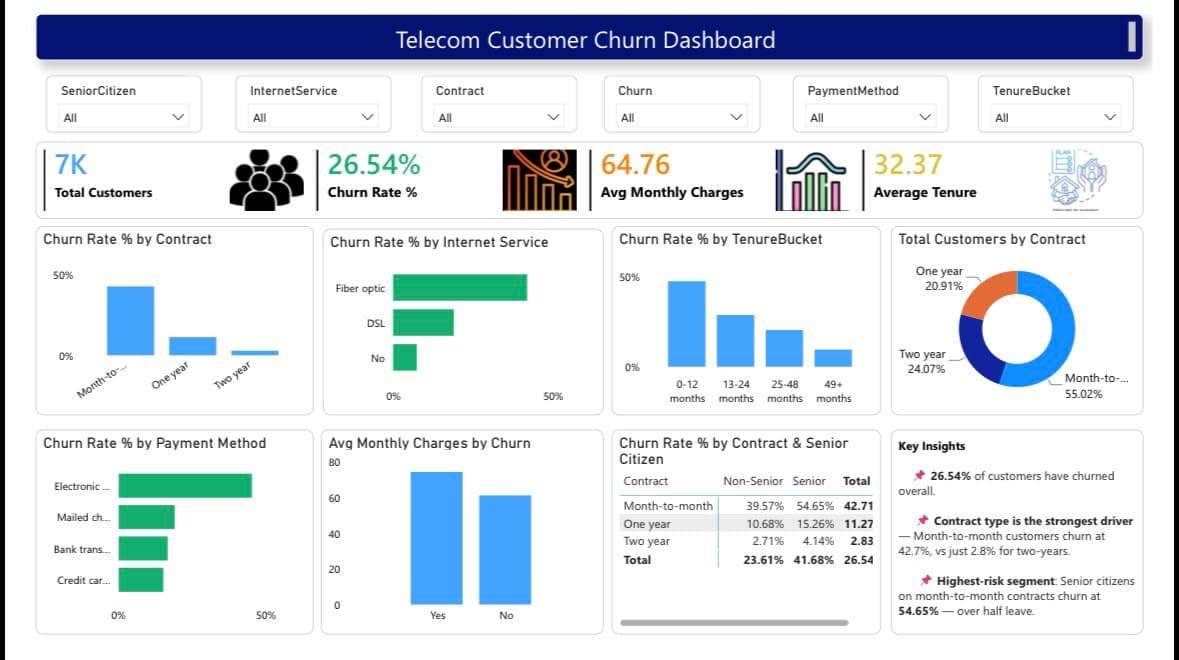

This screenshot's page, from the dashboard's own definition file:
{"tool":"powerbi","page":{"name":" Page 1","canvas":[1280,720],"ordinal":0},"visuals":[{"type":"cardVisual","fields":{"Data":["churn.Total Customers","churn.Churn Rate %","churn.Avg Monthly Charges","churn.Average Tenure"]},"box":[10.9,144.8,1258.3,88.1],"z":0},{"type":"clusteredColumnChart","fields":{"Category":["churn.Contract"],"Y":["churn.Churn Rate %"]},"box":[10.9,241.3,316.1,214.7],"z":1000},{"type":"clusteredColumnChart","fields":{"Y":["churn.Churn Rate %"],"Category":["churn.TenureBucket"]},"box":[664.7,241.3,306.4,214.7],"z":2000},{"type":"clusteredBarChart","title":"Churn Rate % by Internet Service","fields":{"Category":["churn.InternetService"],"Y":["churn.Churn Rate %"]},"box":[336.6,243.7,319.7,212.3],"z":3000},{"type":"clusteredBarChart","title":"Churn Rate % by Payment Method","fields":{"Category":["churn.PaymentMethod"],"Y":["churn.Churn Rate %"]},"box":[10.9,471.7,316.1,232.8],"z":4000},{"type":"pivotTable","title":"Churn Rate % by Contract & Senior Citizen","fields":{"Rows":["churn.Contract"],"Values":["churn.Churn Rate %"],"Columns":["churn.SeniorCitizenLabel"]},"box":[664.7,471.7,306.4,232.8],"z":5000},{"type":"donutChart","fields":{"Category":["churn.Contract"],"Y":["churn.Total Customers"]},"box":[982,241.3,287.1,214.7],"z":6000},{"type":"columnChart","fields":{"Category":["churn.Churn"],"Y":["churn.Avg Monthly Charges"]},"box":[335.4,471.7,320.9,232.8],"z":7000},{"type":"slicer","fields":{"Values":["churn.Contract"]},"box":[448.8,70,177.3,65.1],"z":8000},{"type":"slicer","fields":{"Values":["churn.InternetService"]},"box":[237.7,70,177.3,65.1],"z":9000},{"type":"slicer","fields":{"Values":["churn.Churn"]},"box":[656.3,70,177.3,65.1],"z":10000},{"type":"slicer","fields":{"Values":["churn.PaymentMethod"]},"box":[871.1,70,177.3,65.1],"z":11000},{"type":"slicer","fields":{"Values":["churn.SeniorCitizen"]},"box":[22.9,70,177.3,65.1],"z":12000},{"type":"slicer","fields":{"Values":["churn.TenureBucket"]},"box":[1081,70,177.3,65.1],"z":13000},{"type":"textbox","box":[182.2,0,1087,70],"z":14000},{"type":"textbox","box":[10.9,0,1258.3,53.1],"z":15000},{"type":"textbox","box":[982,471.7,287.1,232.8],"z":16000}]}

Visuals, with their boxes in screenshot pixels (x1, y1, x2, y2), scaled from the page's 1280x720 canvas onto the 1179x660 screenshot:
cardVisual - churn.Total Customers x churn.Churn Rate %: bbox=(10, 133, 1169, 213)
clusteredColumnChart - churn.Contract x churn.Churn Rate %: bbox=(10, 221, 301, 418)
clusteredColumnChart - churn.Churn Rate % x churn.TenureBucket: bbox=(612, 221, 894, 418)
"Churn Rate % by Internet Service" clusteredBarChart: bbox=(310, 223, 605, 418)
"Churn Rate % by Payment Method" clusteredBarChart: bbox=(10, 432, 301, 646)
"Churn Rate % by Contract & Senior Citizen" pivotTable: bbox=(612, 432, 894, 646)
donutChart - churn.Contract x churn.Total Customers: bbox=(905, 221, 1169, 418)
columnChart - churn.Churn x churn.Avg Monthly Charges: bbox=(309, 432, 605, 646)
slicer - churn.Contract: bbox=(413, 64, 577, 124)
slicer - churn.InternetService: bbox=(219, 64, 382, 124)
slicer - churn.Churn: bbox=(605, 64, 768, 124)
slicer - churn.PaymentMethod: bbox=(802, 64, 966, 124)
slicer - churn.SeniorCitizen: bbox=(21, 64, 184, 124)
slicer - churn.TenureBucket: bbox=(996, 64, 1159, 124)
textbox: bbox=(168, 0, 1169, 64)
textbox: bbox=(10, 0, 1169, 49)
textbox: bbox=(905, 432, 1169, 646)
